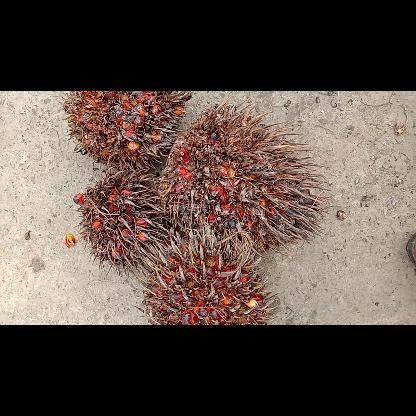Terlalu masak: (154, 96, 334, 266), (138, 224, 286, 324), (74, 166, 188, 280), (57, 91, 194, 175)
